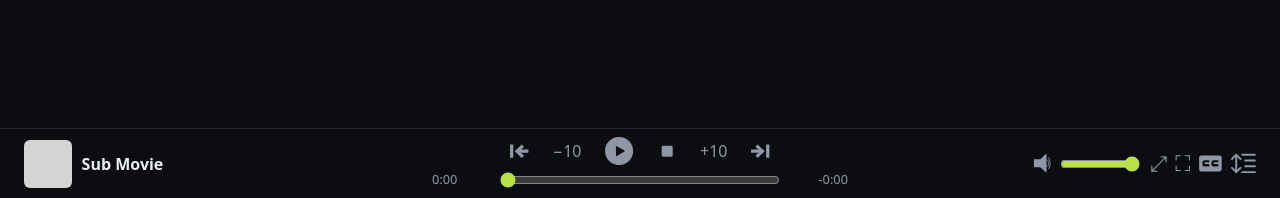
Test case: NowPlayingBar — captions menu › search online → pick a candidate → the fetched track appears in the menu
Click the 1st button with test id "now-playing-captions": {"x": 1211, "y": 164} top-left (1198, 151), bottom-right (1223, 176)
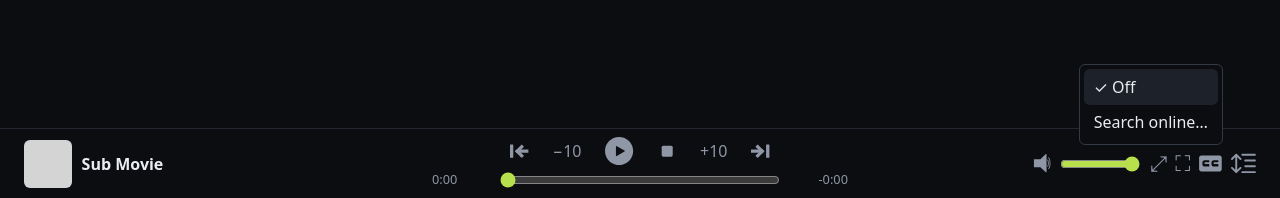
Trigger the online search.
Click the menu item with test id "captions-search-online": {"x": 1151, "y": 122} top-left (1084, 104), bottom-right (1218, 140)
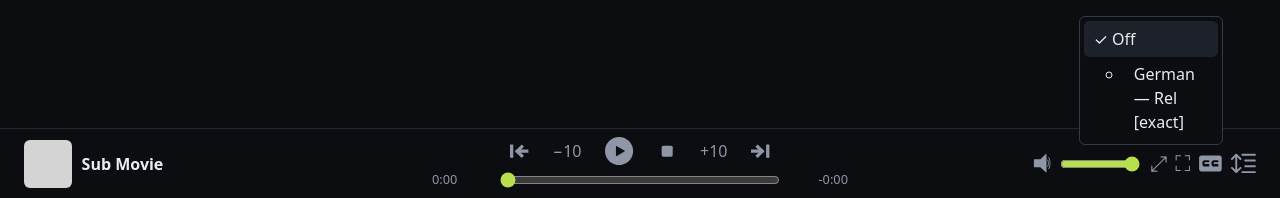
Expected: the menu item with test id "captions-candidate" reads "German — Rel [exact]"
Pick it → fetchSubtitle is called and the fetched track appears in the menu.
Click the menu item with test id "captions-candidate": {"x": 1171, "y": 98} top-left (1124, 56), bottom-right (1218, 140)
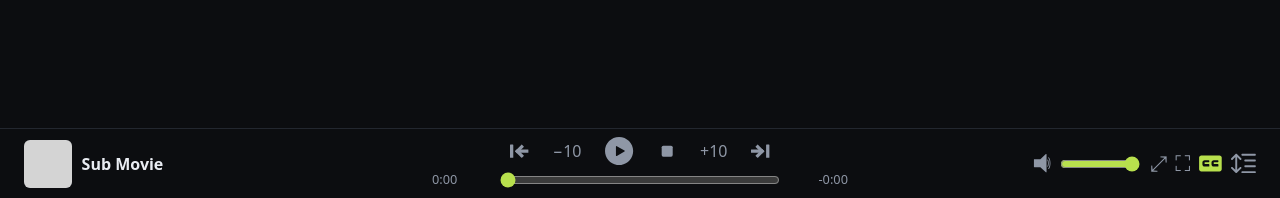
Click the 1st button with test id "now-playing-captions": {"x": 1211, "y": 164} top-left (1198, 151), bottom-right (1223, 176)
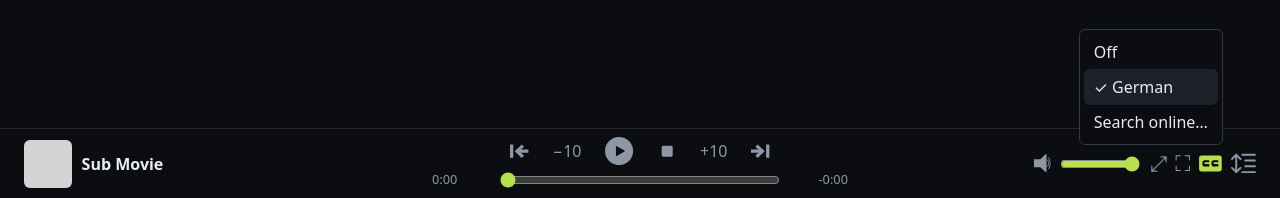
Expected: the menu with test id "now-playing-captions-menu" shows "German", top-left (1084, 69), bottom-right (1218, 104)
